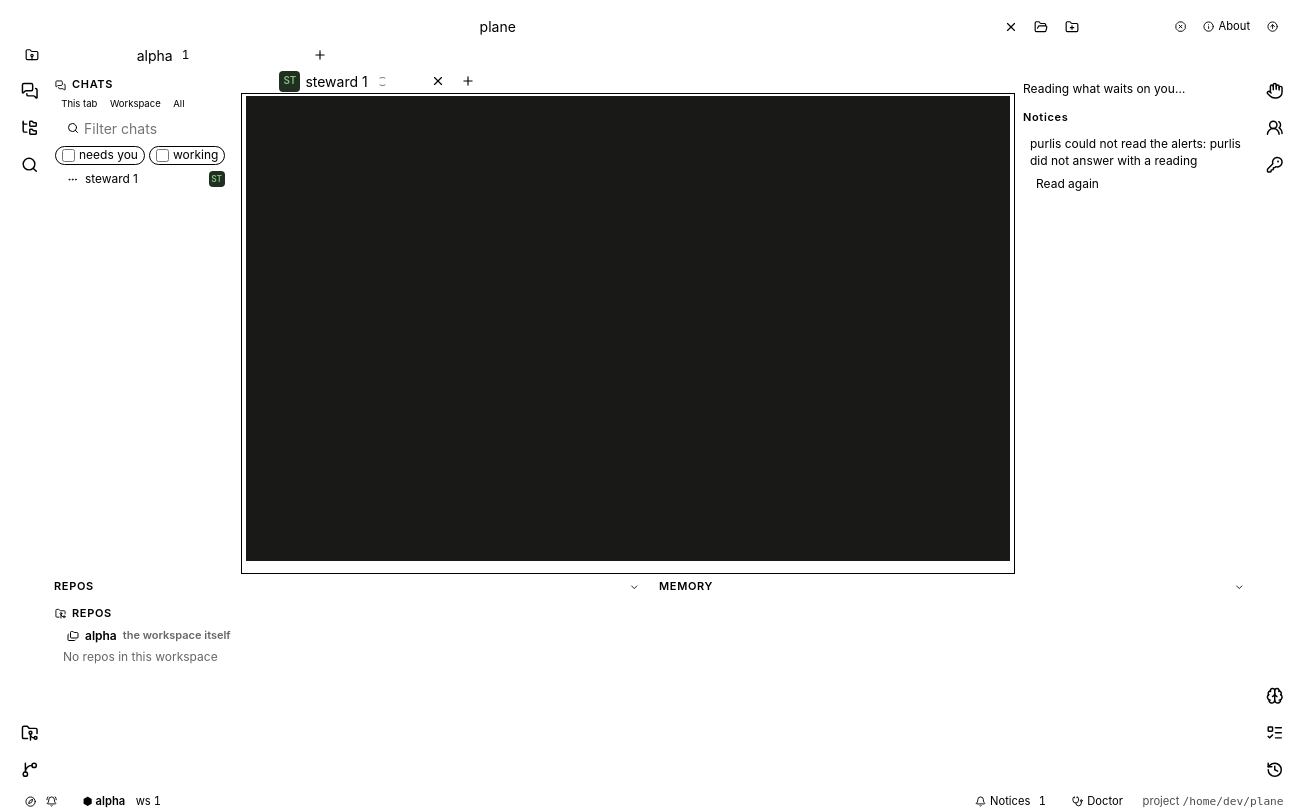
Scenario: a persona's own tab › opens from the persona's row, in front, on the strip in front, beside the chats
expect the tab "steward 1" is shown: met, box [241,69,425,93]
Click the tab named "Personas".
click(1274, 128)  # box [1257,110,1292,145]
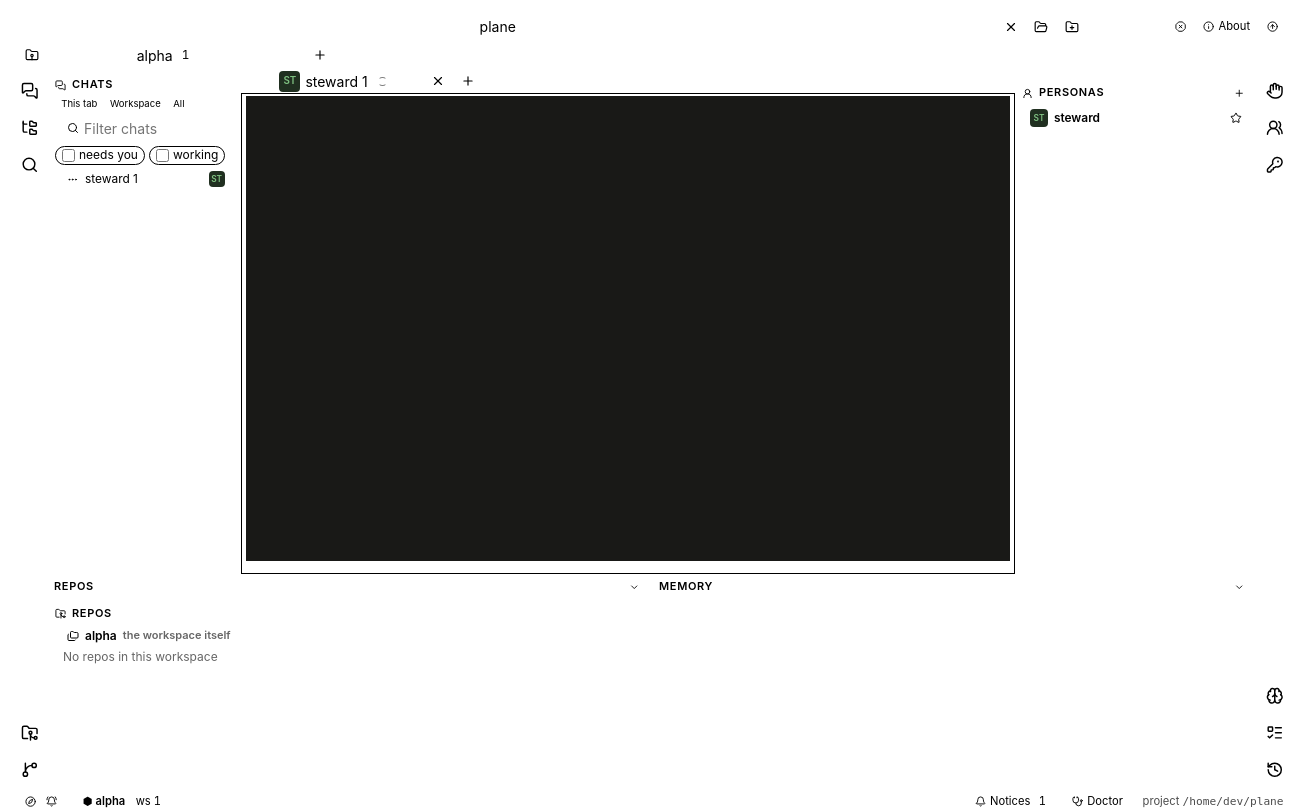
Click the button "steward".
click(1136, 118)  # box [1022,108,1250,129]
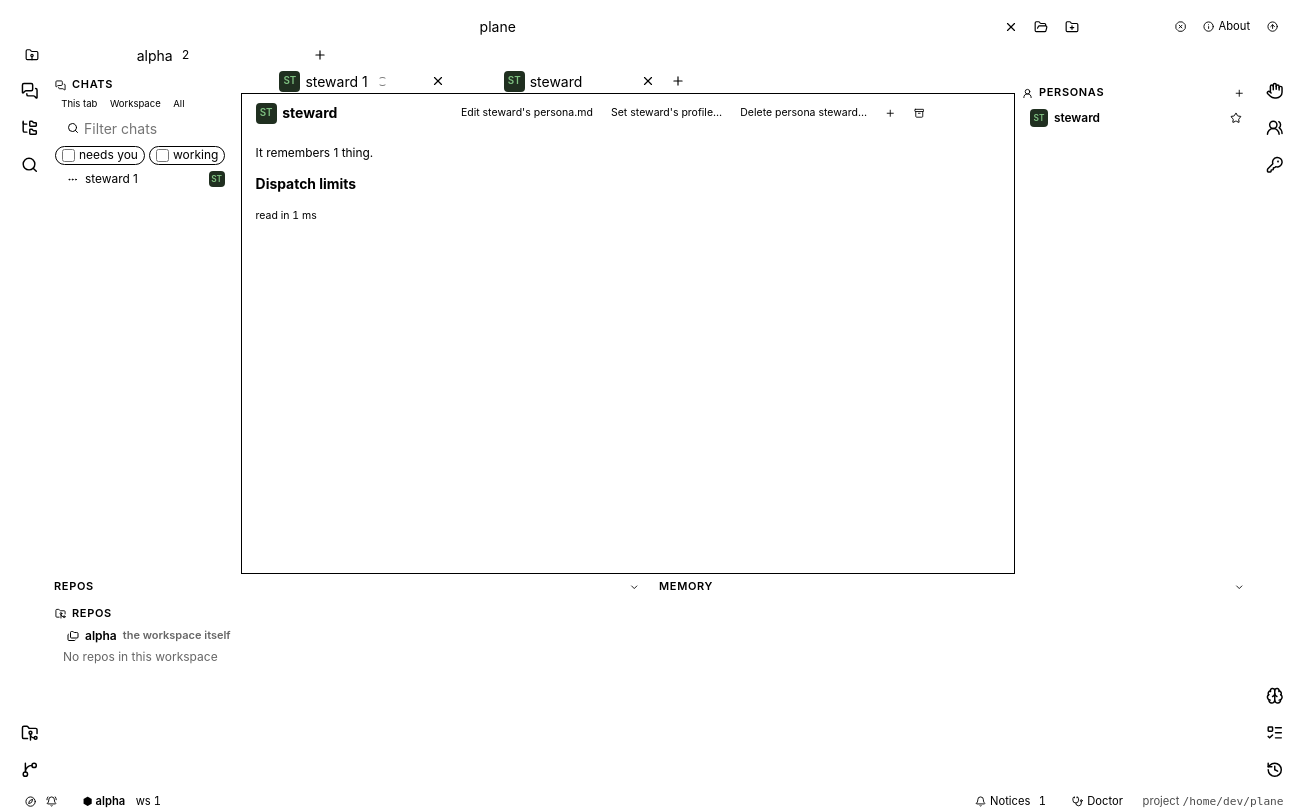
expect the tab "steward" is shown: met, box [451,69,635,93]
